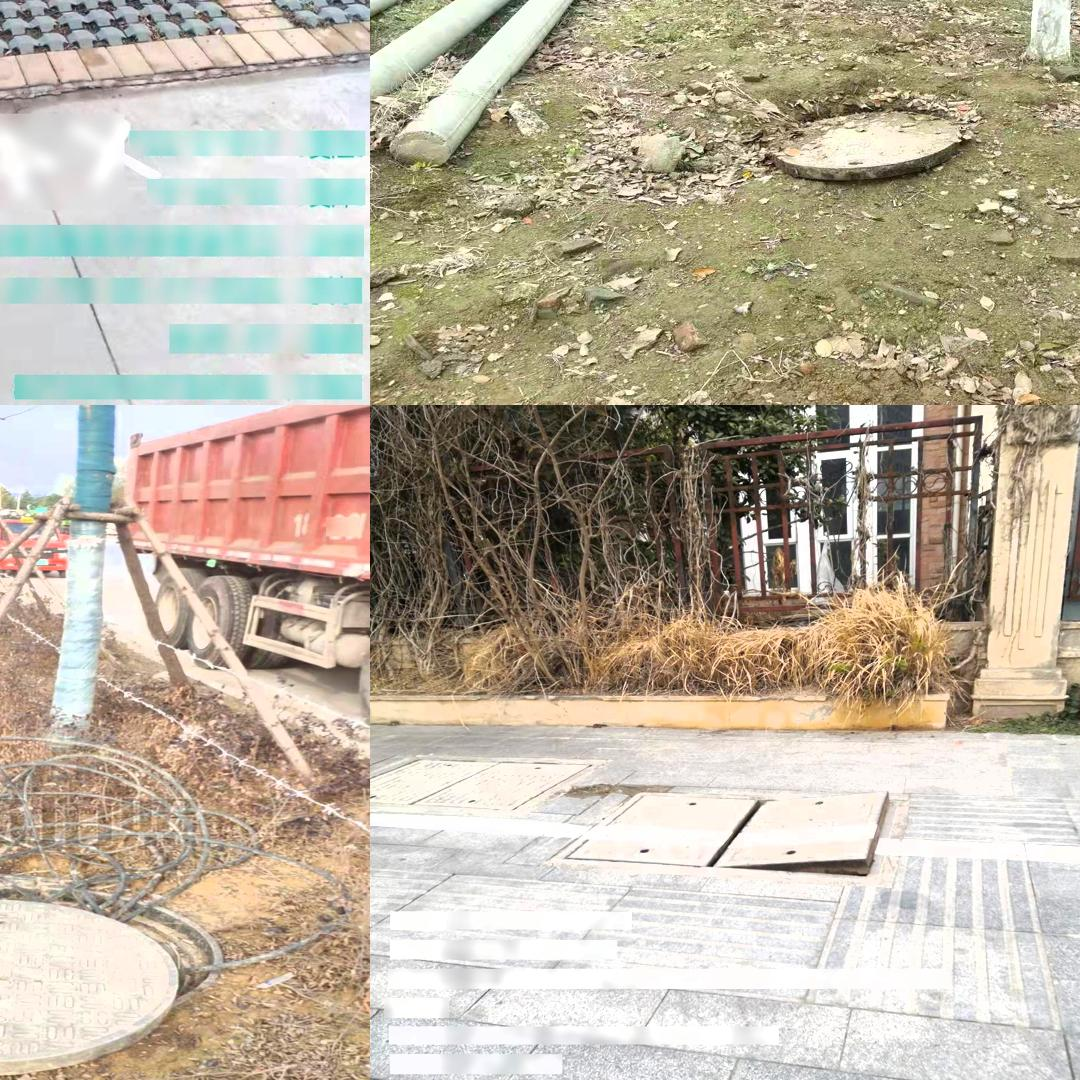good: (370, 755, 594, 816)
uncovered: (0, 881, 218, 1072), (551, 789, 907, 886), (767, 114, 961, 184)
